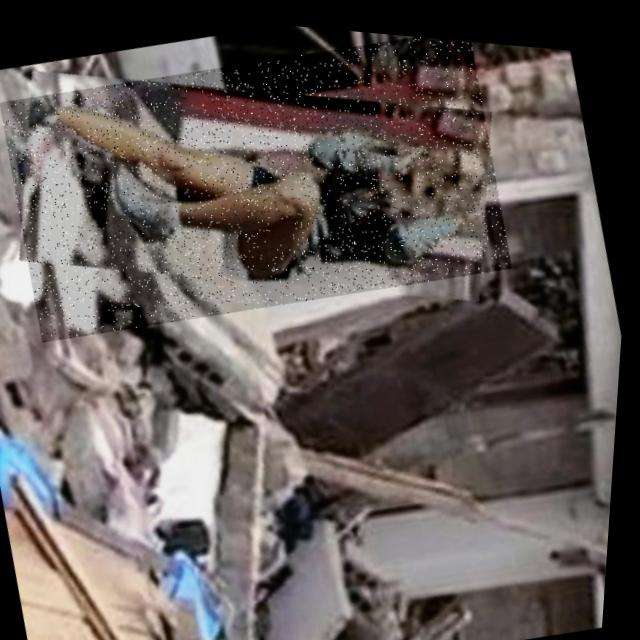Person in Rubble: (0, 0, 525, 373)
